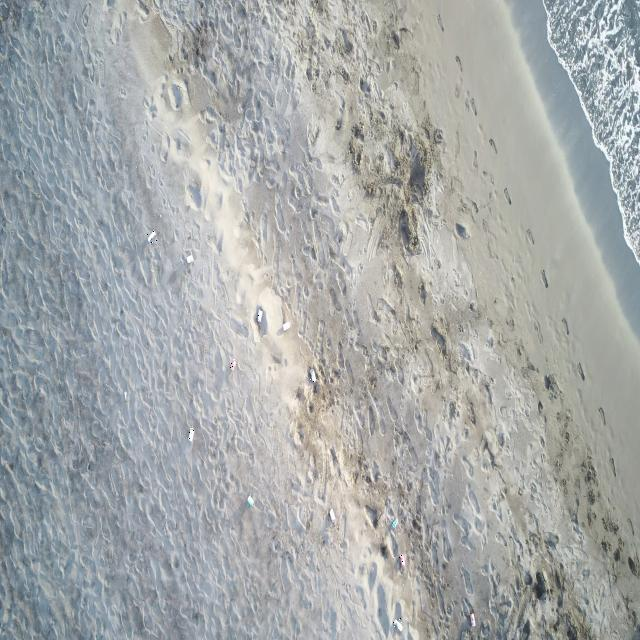Garbage: (392, 617, 402, 631), (255, 307, 263, 324), (308, 367, 316, 383), (468, 609, 475, 627), (328, 507, 335, 524), (149, 230, 156, 243), (281, 320, 289, 331), (187, 427, 193, 440), (390, 517, 397, 528), (186, 253, 192, 263), (228, 360, 236, 367), (400, 553, 404, 567), (247, 496, 252, 506), (124, 391, 127, 399)
